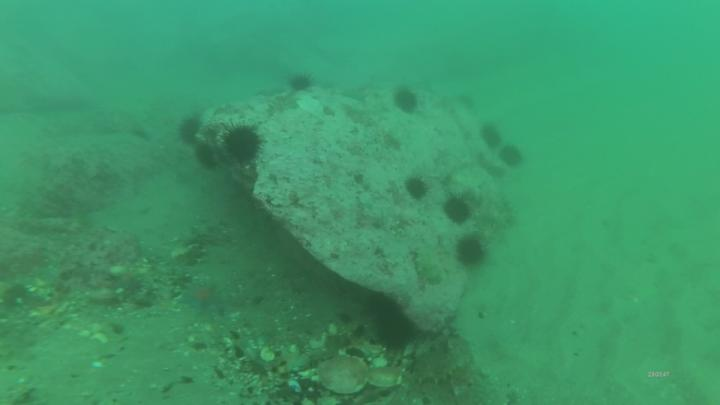echinus: (375, 308, 413, 345), (227, 127, 260, 160), (445, 200, 472, 225), (457, 240, 482, 265), (395, 91, 419, 111), (407, 178, 429, 199), (198, 146, 218, 169), (182, 123, 202, 144), (482, 126, 501, 147), (291, 74, 310, 91), (503, 145, 520, 164)
holothurian: (420, 357, 473, 385)
scallop: (315, 353, 371, 398)
starfish: (184, 285, 225, 310)
